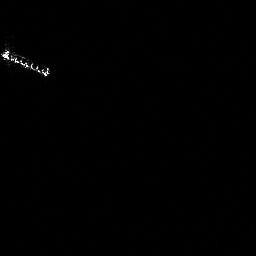ship: (1, 44, 53, 80)
